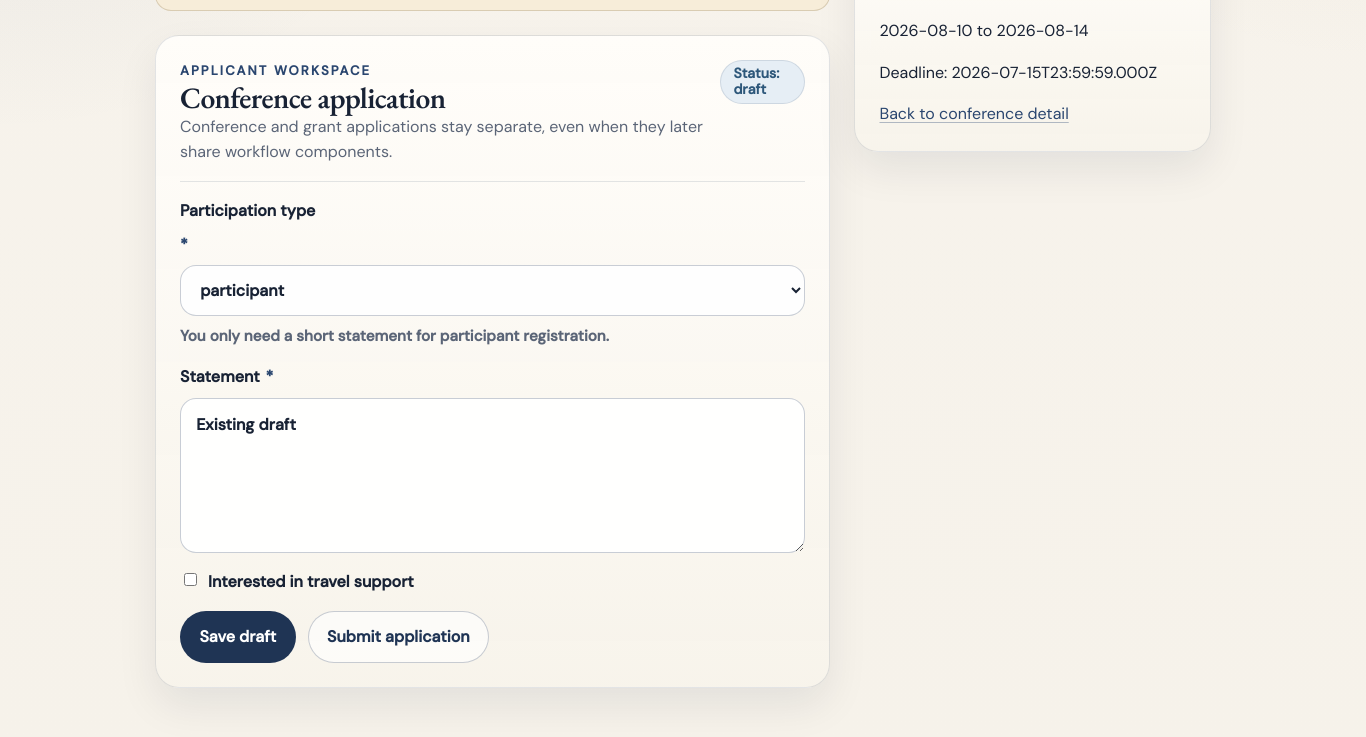
Scenario: conference apply page › updates an existing draft after the page reloads
(page scrolled)
Expected: the heading "Conference application" is shown, [180, 78, 446, 117]
Replace the text in the text box labelled "Statement *" with "Updated after reload" at coordinates (493, 476), box [180, 398, 806, 553]
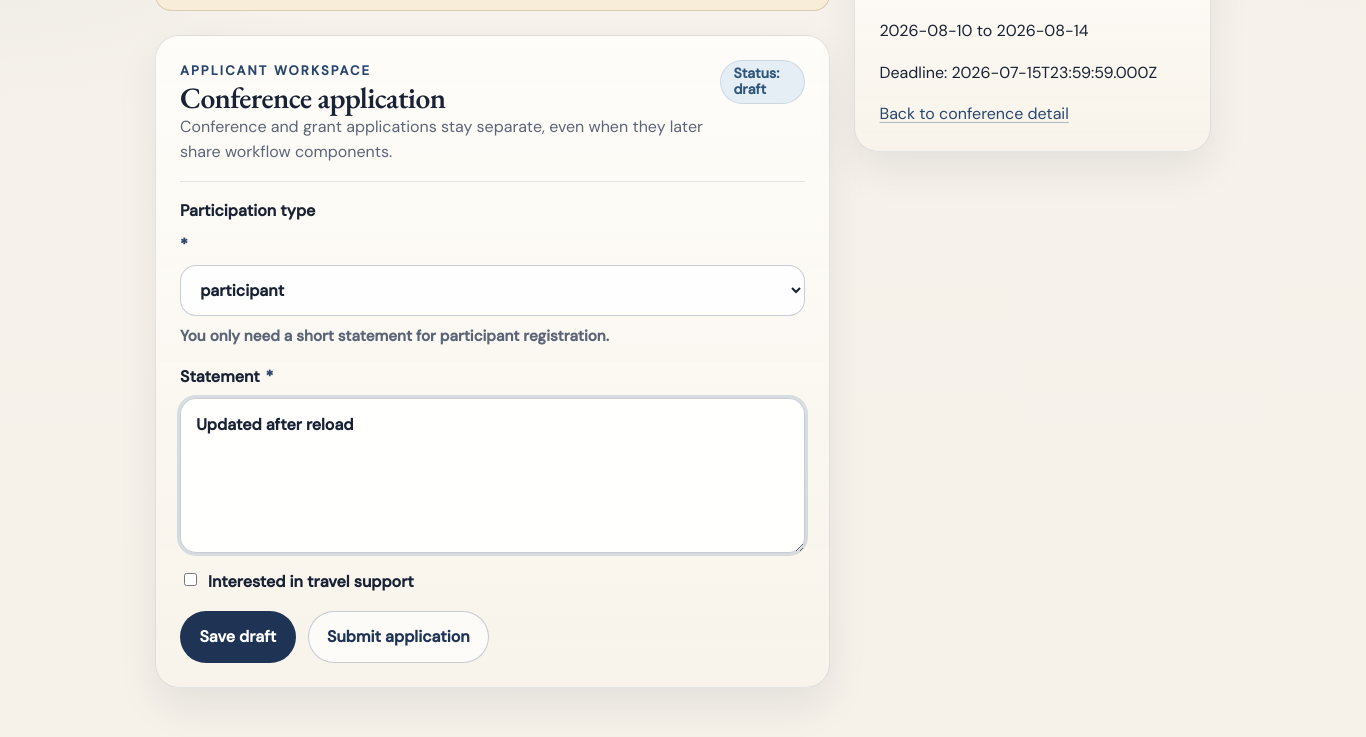
Click the button "Save draft".
click(238, 637)  # box [180, 611, 296, 662]
(page scrolled)
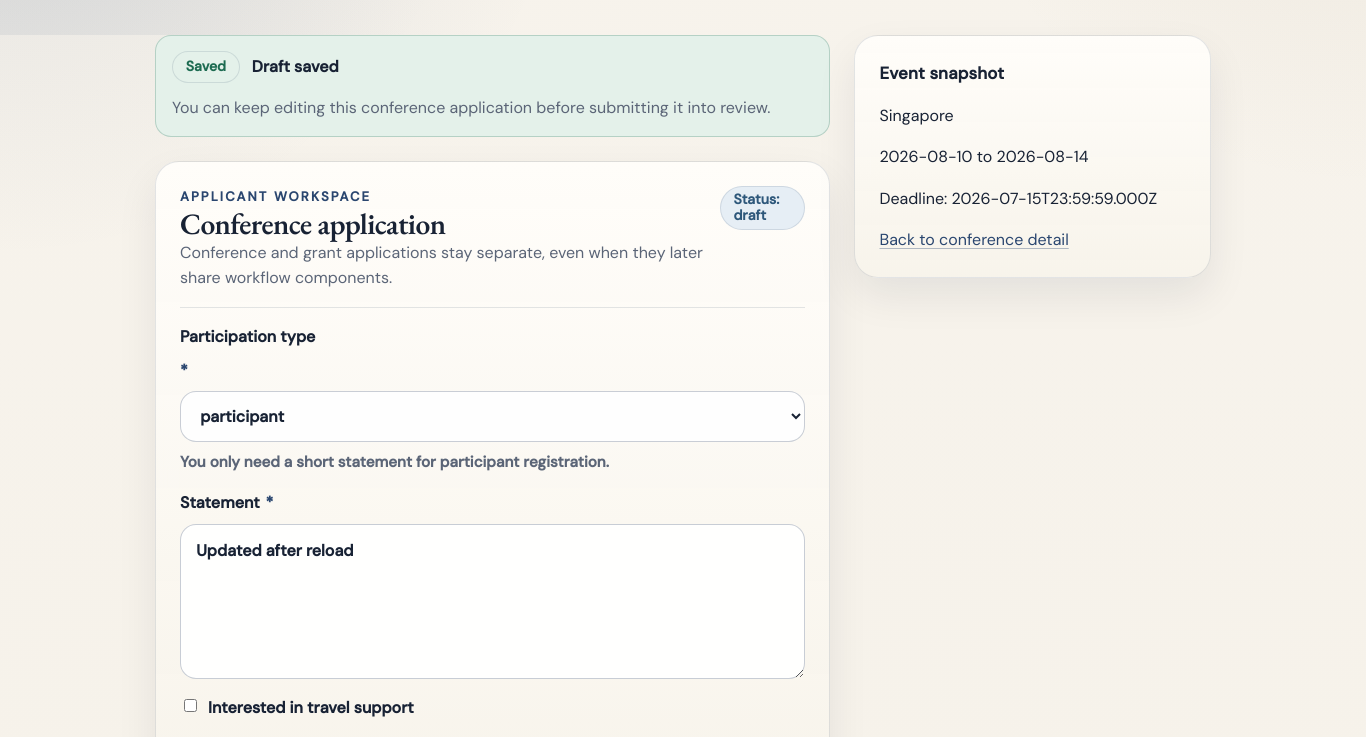
Expected: the text box showing "Updated after reload" is shown, [180, 524, 806, 679]
Expected: the text "Draft saved" is shown, [252, 54, 339, 80]
